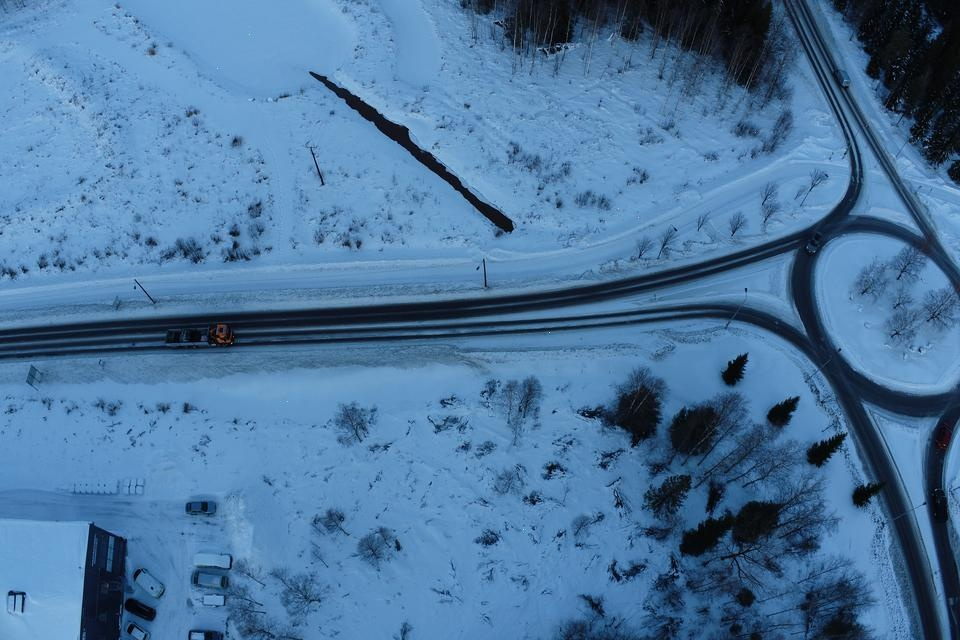roundabout: (773, 168, 960, 435)
